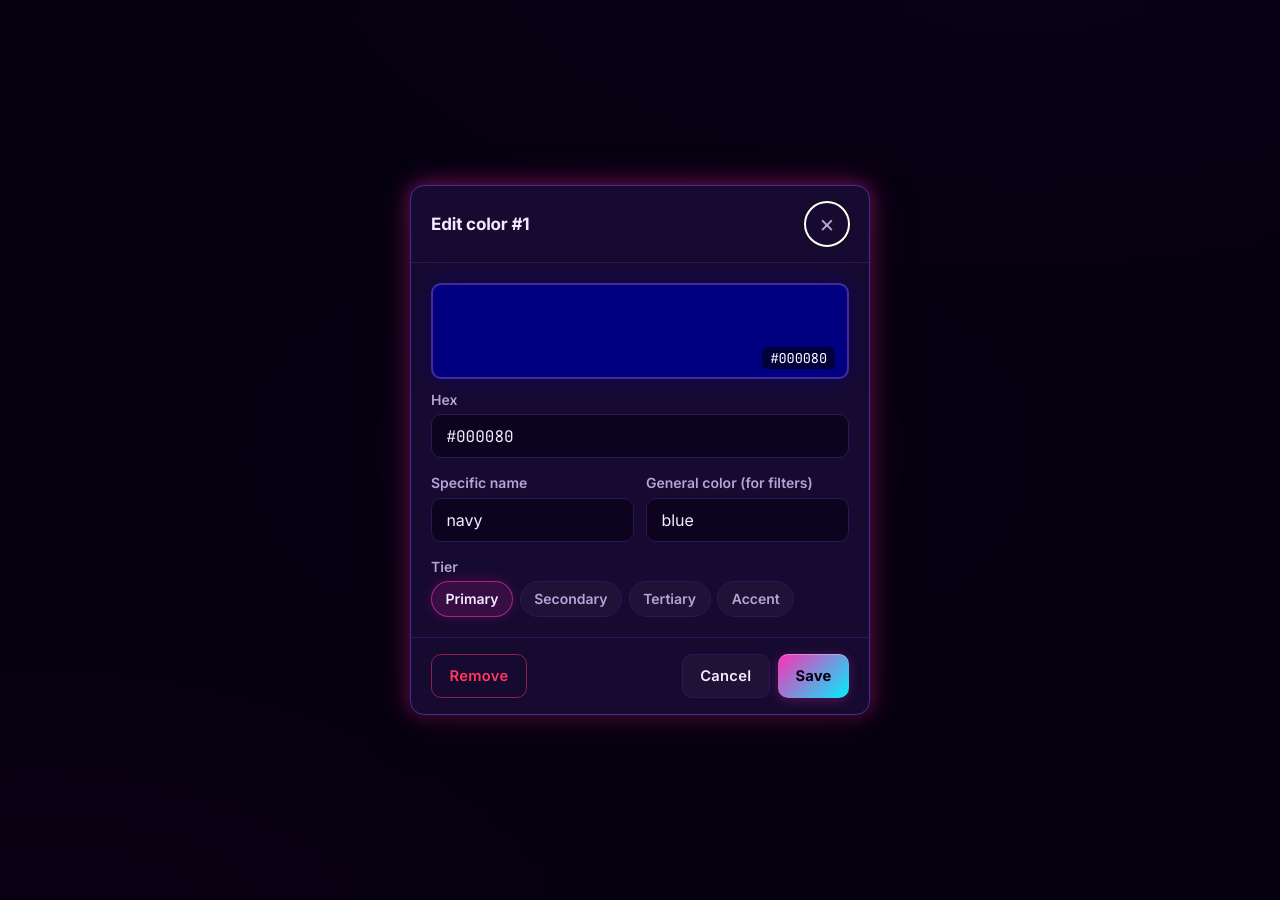
ColorEditModal — save › writes the server’s answer into the hat cache and closes
The width and height of the screenshot is (1280, 900).
Clear the field labelled "General color (for filters)" at [748, 520], box [646, 498, 849, 542]
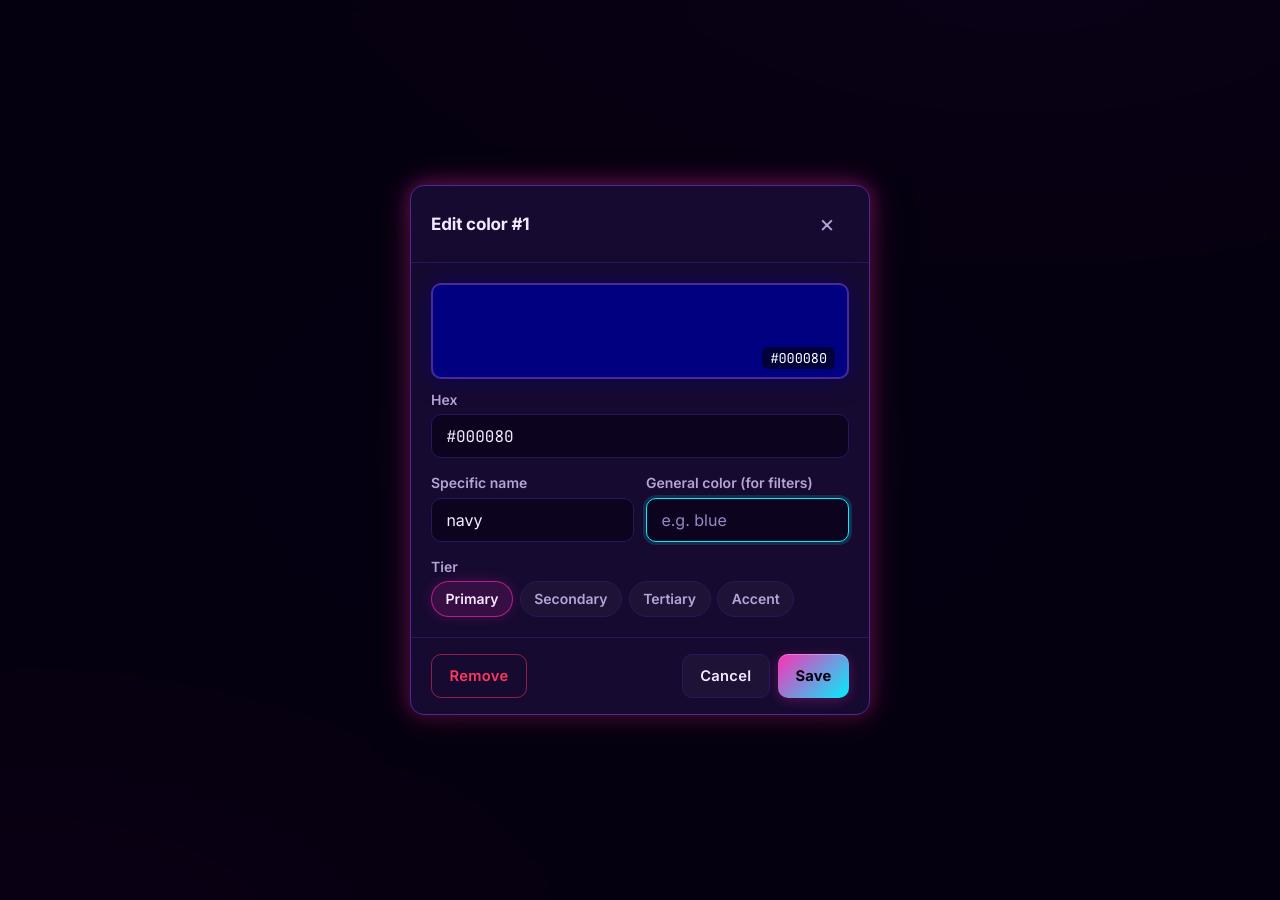
Click the button "Save" at [814, 676], box [778, 654, 849, 698]
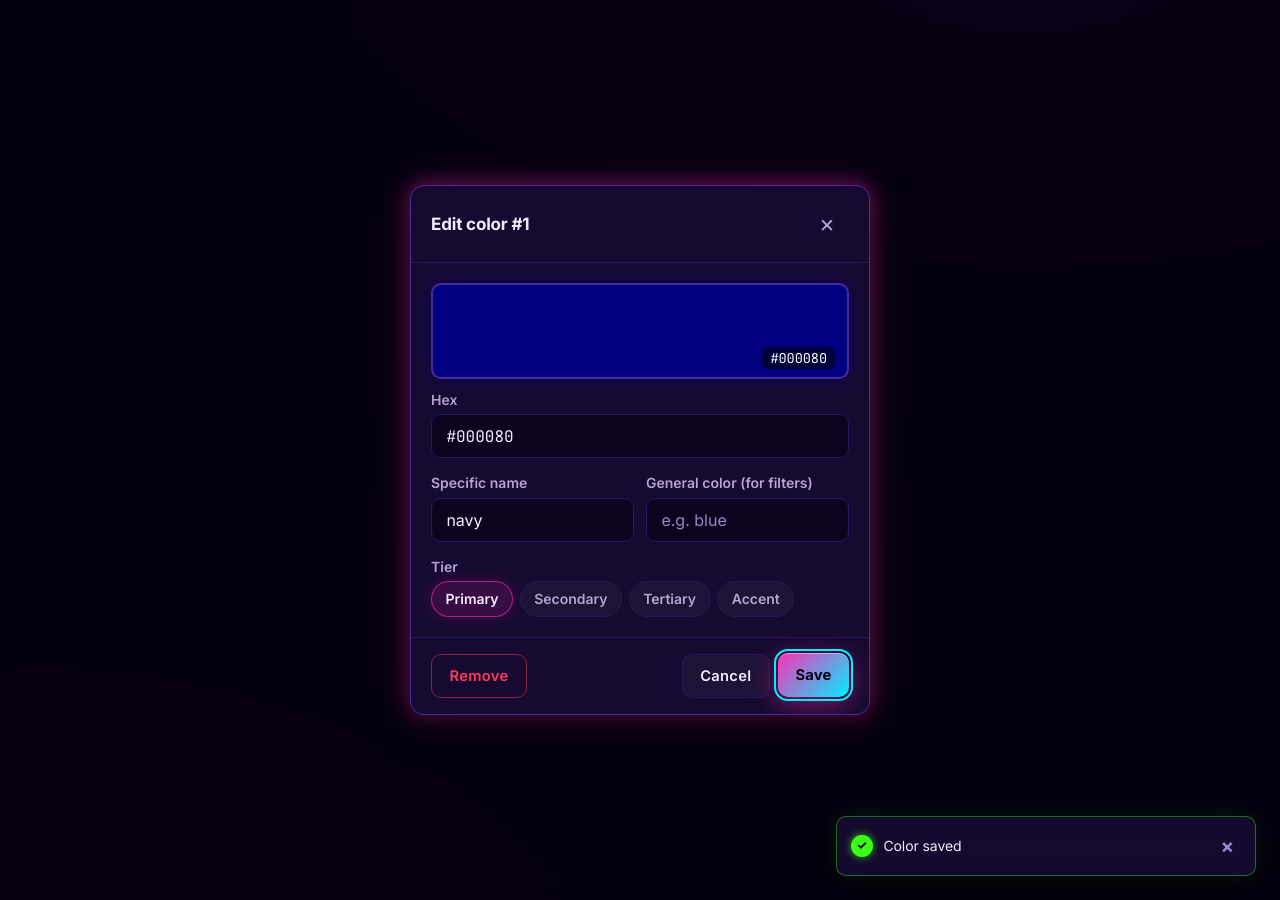
Check: the text "Color saved" is shown, box [883, 837, 962, 854]
